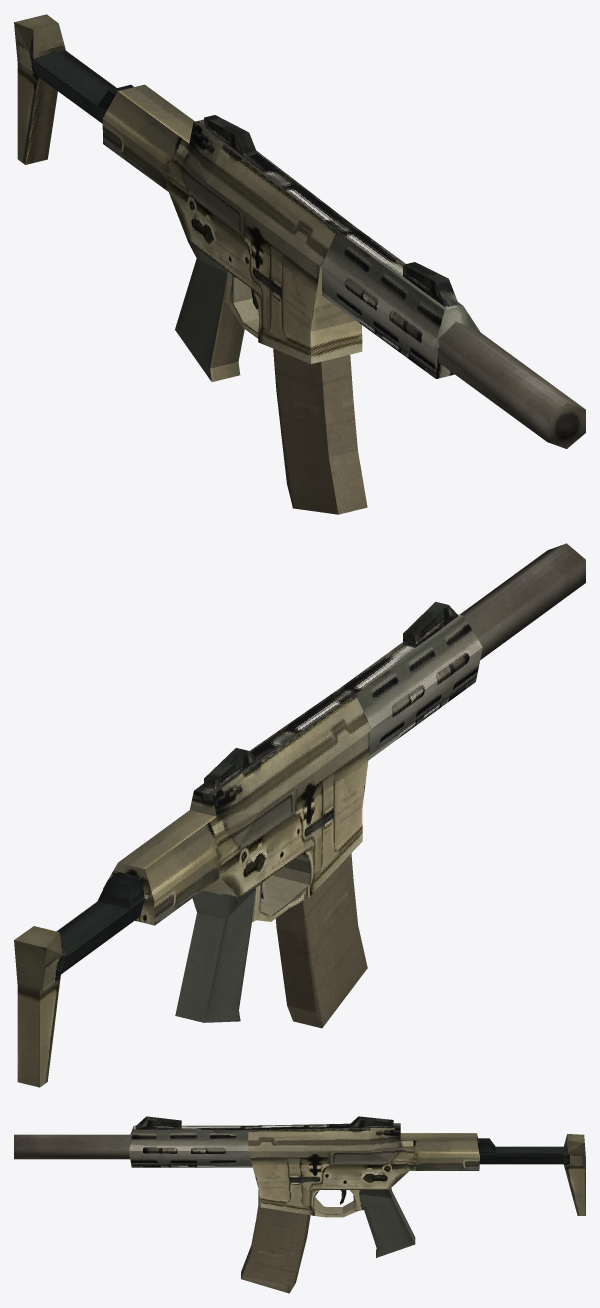
Rendered from honey.glb.
3 views of the same model, one above another, from view 1: azimuth 30°, elevation 25°; view 2: azimuth 150°, elevation 25°; view 3: azimuth 270°, elevation 25° (orthographic). The views are drawn at different scales.
Parts seen in each view (by area): view 1: AAC_Honey_Stock, Mag, AAC_Honey_Silencer; view 2: AAC_Honey_Stock, Mag, AAC_Honey_Silencer; view 3: AAC_Honey_Stock, Mag, AAC_Honey_Silencer.
Boxes of the visible parts, x1,y1,x2,y2 form: AAC_Honey_Stock: [14, 14, 479, 381]; Mag: [273, 348, 367, 514]; AAC_Honey_Silencer: [438, 321, 585, 448]; AAC_Honey_Stock: [14, 601, 482, 1087]; Mag: [275, 853, 367, 1028]; AAC_Honey_Silencer: [460, 543, 585, 659]; AAC_Honey_Stock: [129, 1116, 585, 1257]; Mag: [241, 1206, 310, 1293]; AAC_Honey_Silencer: [14, 1134, 131, 1159].
Bounding box in the file's own units: 0.3177 × 1.91 × 5.76.
1 material, 1 textured.
